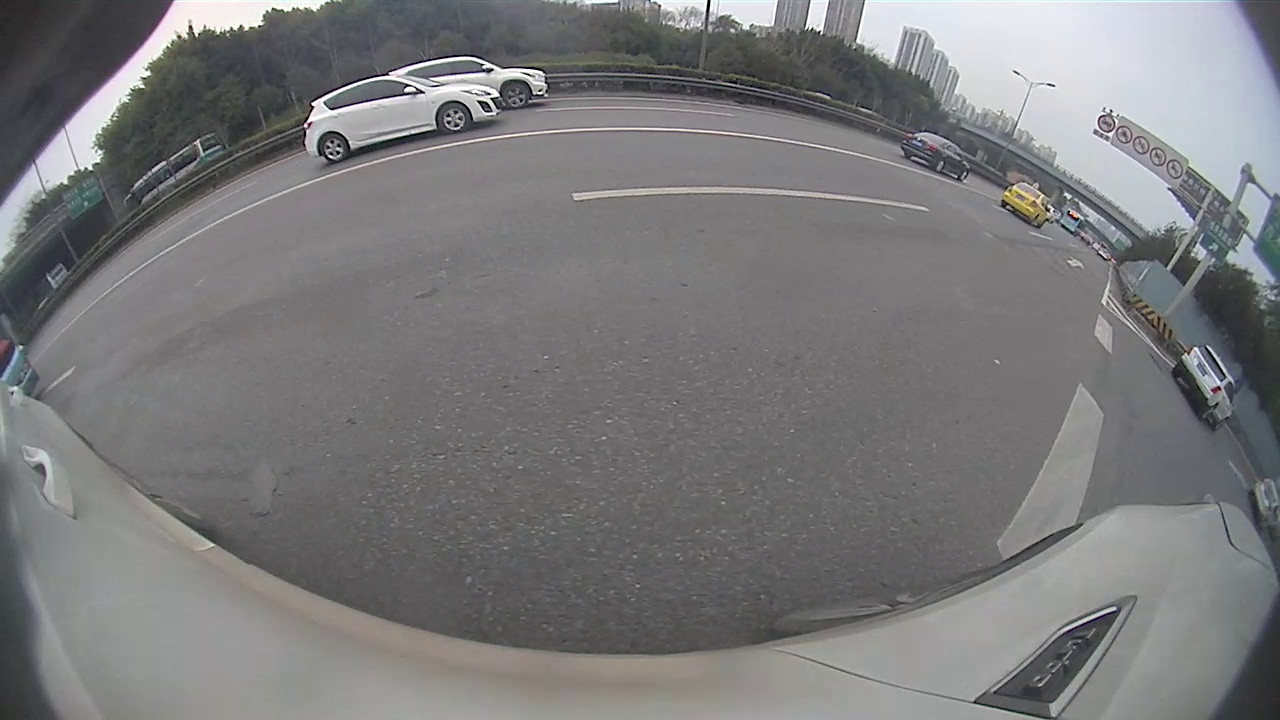car: (303, 74, 500, 163), (397, 53, 547, 110), (1173, 343, 1237, 430), (900, 133, 970, 181), (1002, 181, 1050, 229)
front: (438, 102, 470, 136), (499, 81, 531, 111), (1214, 417, 1230, 432), (959, 168, 968, 183)
rear: (319, 133, 348, 163), (1199, 404, 1220, 421), (935, 160, 946, 173)
